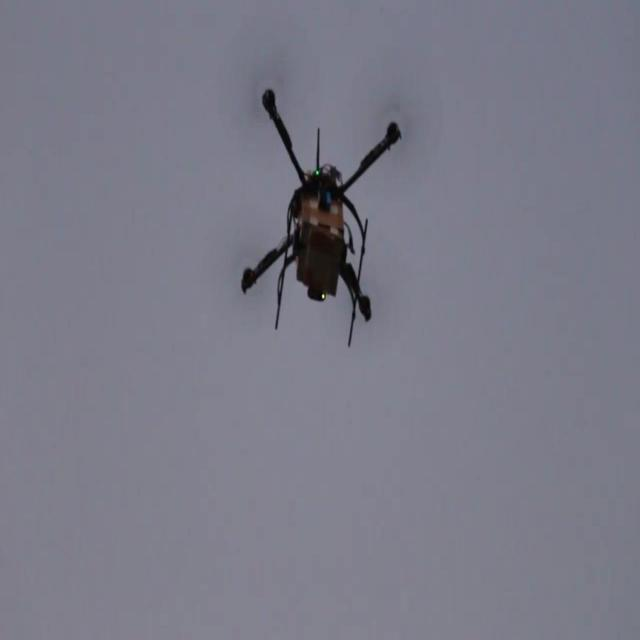UAV: (240, 88, 402, 348)
